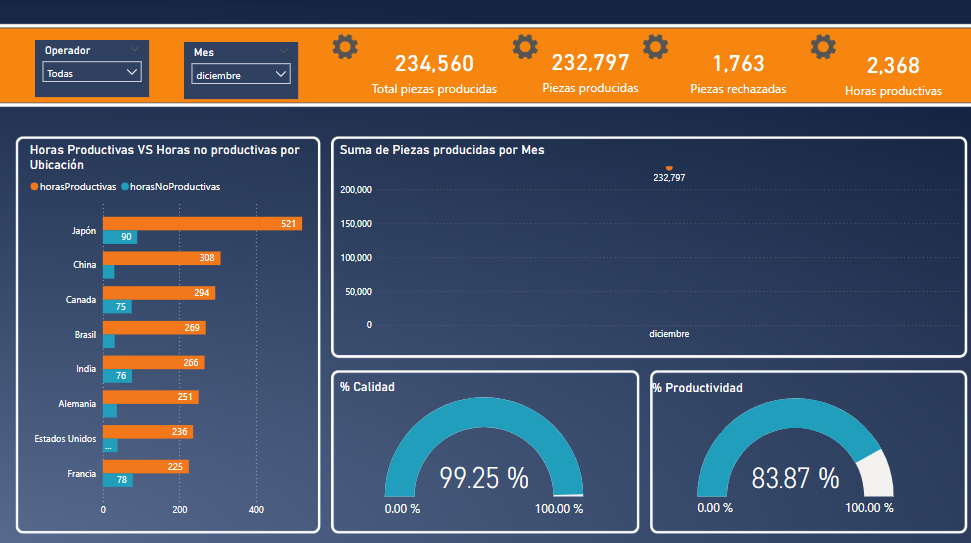

Layout of this report page (visuals, bound fields, positions):
{"tool":"powerbi","page":{"name":"Página 1","canvas":[1280,720],"ordinal":0},"visuals":[{"type":"card","fields":{"Values":["Producción.totalPiezasBuenasProducidas"]},"box":[687.2,26.3,180,132.7],"z":0},{"type":"card","fields":{"Values":["Producción.totalPiezasRechazadas"]},"box":[831.7,27.6,279.9,132.7],"z":1000},{"type":"card","fields":{"Values":["Producción.totalPiezasProducidas"]},"box":[432.3,27.6,279.9,132.7],"z":2000},{"type":"clusteredBarChart","title":"Horas Productivas VS Horas no productivas por Ubicación","fields":{"Category":["Producción.Ubicación"],"Y":["Producción.horasProductivas","Producción.horasNoProductivas"]},"box":[35.8,188.9,377.8,501.6],"z":3000},{"type":"card","fields":{"Values":["Producción.horasProductivas"]},"box":[1083.9,27.6,182.6,136.6],"z":4000},{"type":"areaChart","fields":{"Category":["Producción.Fecha inicio.Variación.Jerarquía de fechas.Mes"],"Y":["Sum(Producción.Piezas producidas)"]},"box":[442.8,189.2,823.8,270.7],"z":5000},{"type":"gauge","fields":{"Y":["Producción.% Calidad"]},"box":[442.8,500.6,388.9,190.5],"z":6000},{"type":"gauge","fields":{"Y":["Producción.% Productividad"]},"box":[853.3,501.6,387.6,188.9],"z":7000},{"type":"slicer","fields":{"Values":["Producción.Operador"]},"box":[47.3,55.2,149.8,74.9],"z":8000},{"type":"slicer","fields":{"Values":["Producción.Fecha inicio.Variación.Jerarquía de fechas.Mes"]},"box":[243.1,57.8,149.8,74.9],"z":9000}]}

Visuals, with their boxes in screenshot pixels (x1, y1, x2, y2), scaled from the page's 1280x720 canvas onto the 971x543 screenshot:
card - Producción.totalPiezasBuenasProducidas: 521:20:658:120
card - Producción.totalPiezasRechazadas: 631:21:843:121
card - Producción.totalPiezasProducidas: 328:21:540:121
"Horas Productivas VS Horas no productivas por Ubicación" clusteredBarChart: 27:142:314:521
card - Producción.horasProductivas: 822:21:961:124
areaChart - Producción.Fecha inicio.Variación.Jerarquía de fechas.Mes x Sum(Producción.Piezas producidas): 336:143:961:347
gauge - Producción.% Calidad: 336:378:631:521
gauge - Producción.% Productividad: 647:378:941:521
slicer - Producción.Operador: 36:42:150:98
slicer - Producción.Fecha inicio.Variación.Jerarquía de fechas.Mes: 184:44:298:100
